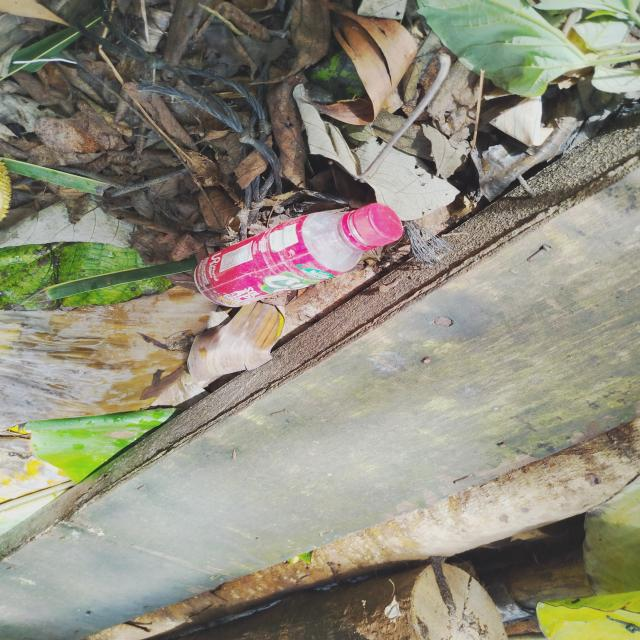plastic: (183, 192, 414, 316)
